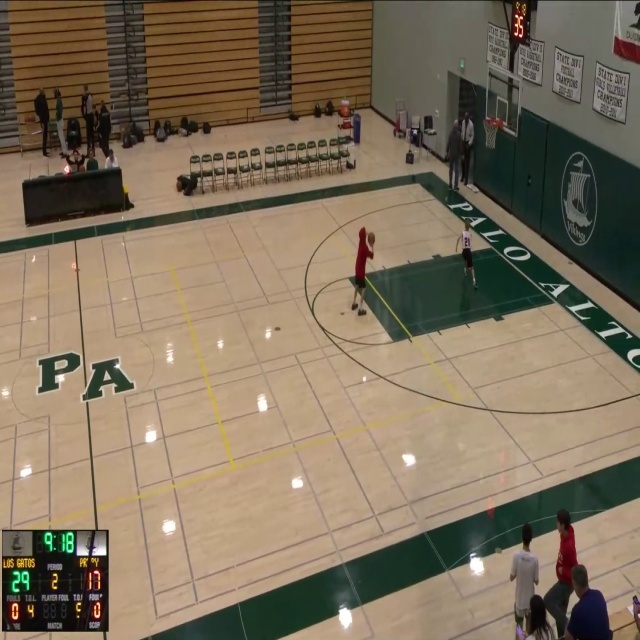Basketball: (367, 232, 375, 245)
